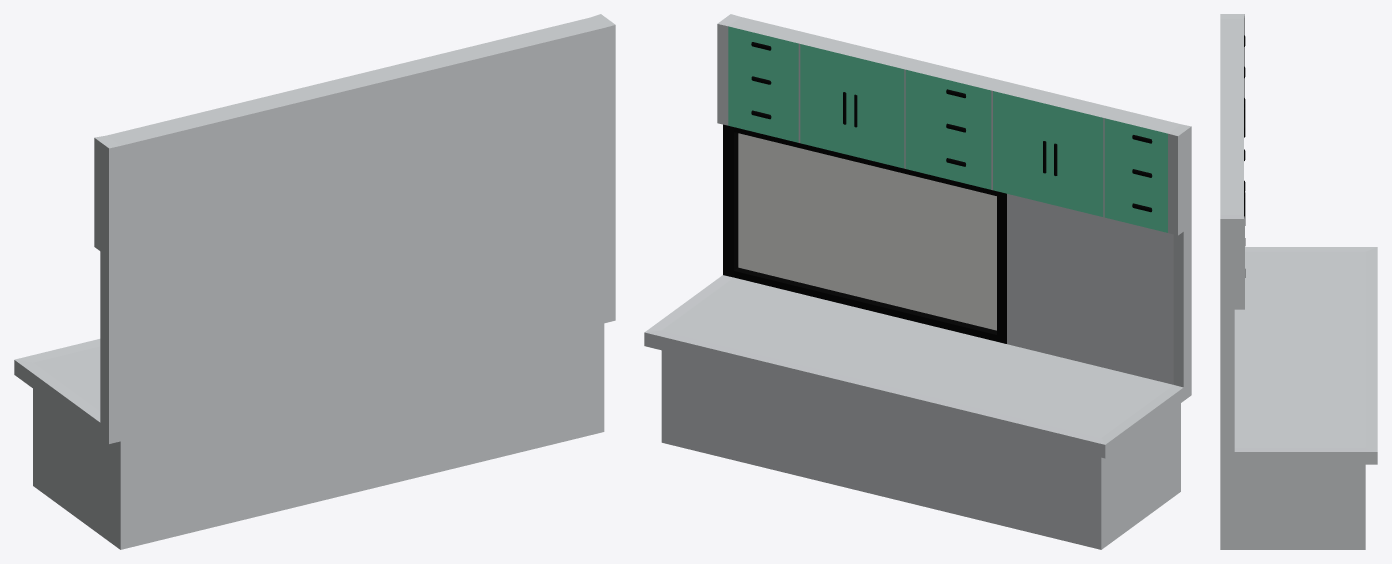
The model's file is desk.fbx.
The picture shows the model from 3 angles, left to right: view 1: azimuth 30°, elevation 25°; view 2: azimuth 150°, elevation 25°; view 3: azimuth 270°, elevation 25°; orthographic projection. The views are drawn at different scales.
Parts seen in each view (by area): view 1: table; view 2: table; view 3: table.
Part boxes in pixels (x1,y1,x2,y2): table: (14,14,615,549); table: (644,14,1191,549); table: (1220,14,1377,549).
Size of the model in its own units: 21.7 by 16.55 by 7.04.
